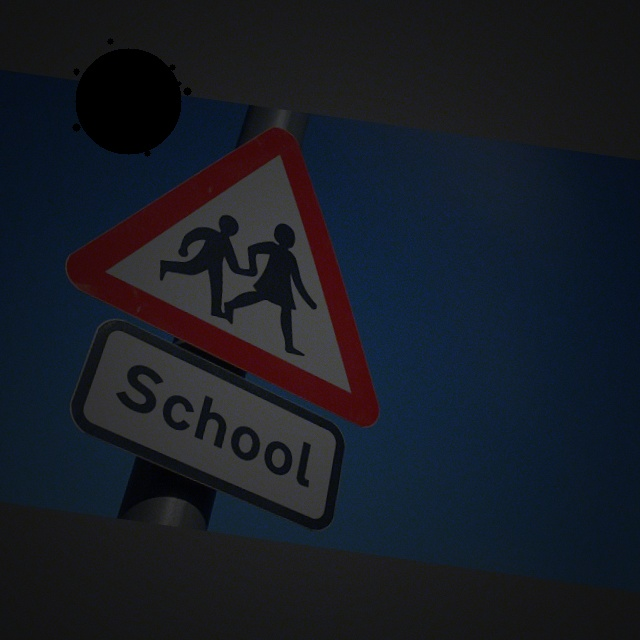School_Ahead: (57, 90, 435, 418)
